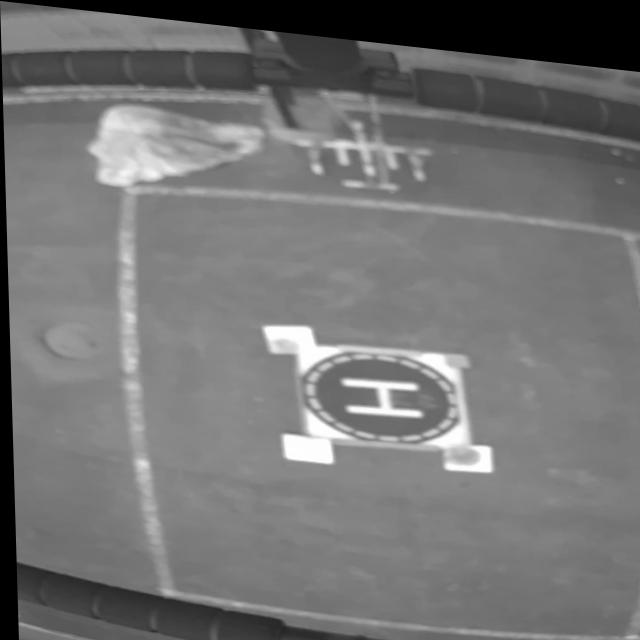Helipad: (339, 369, 426, 408)
